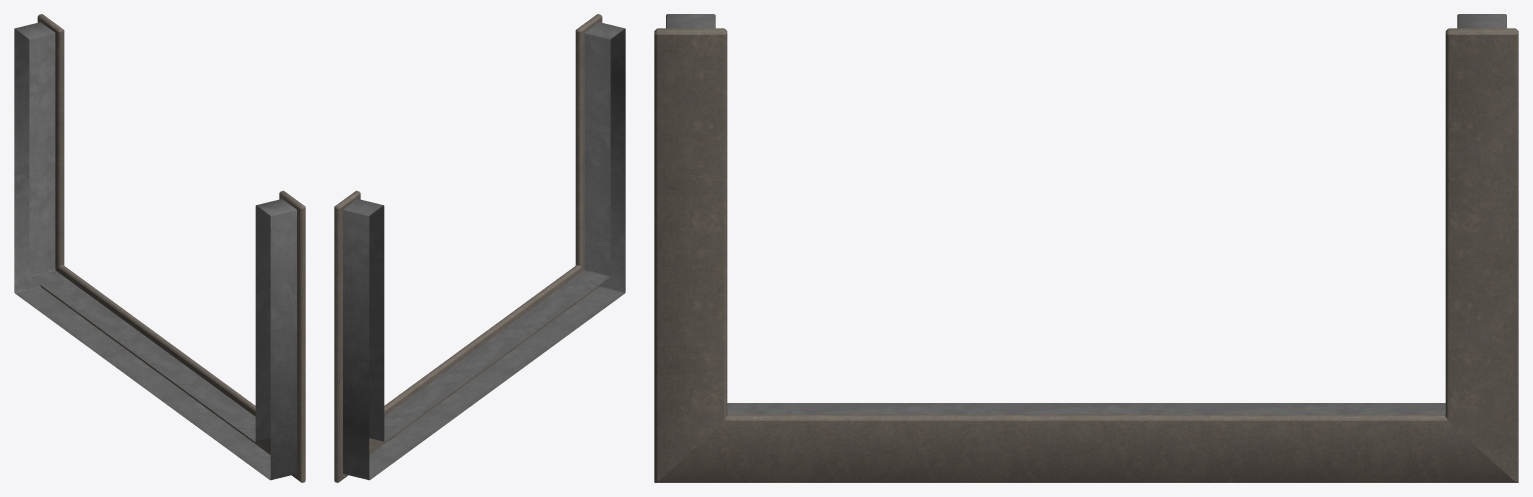
File: cP_Bench16.dae
3 renders of one model, left to right at view 1: azimuth 30°, elevation 25°; view 2: azimuth 150°, elevation 25°; view 3: azimuth 270°, elevation 25°, orthographic. The views are drawn at different scales.
Visible parts, largest first — view 1: cP_Bench16.001; view 2: cP_Bench16.001; view 3: cP_Bench16.001.
Boxes of the visible parts, x1,y1,x2,y2 form: cP_Bench16.001: [14, 14, 305, 482]; cP_Bench16.001: [334, 14, 625, 482]; cP_Bench16.001: [654, 14, 1518, 482].
Size of the model in its own units: 0.6181 by 8.74 by 5.05.
